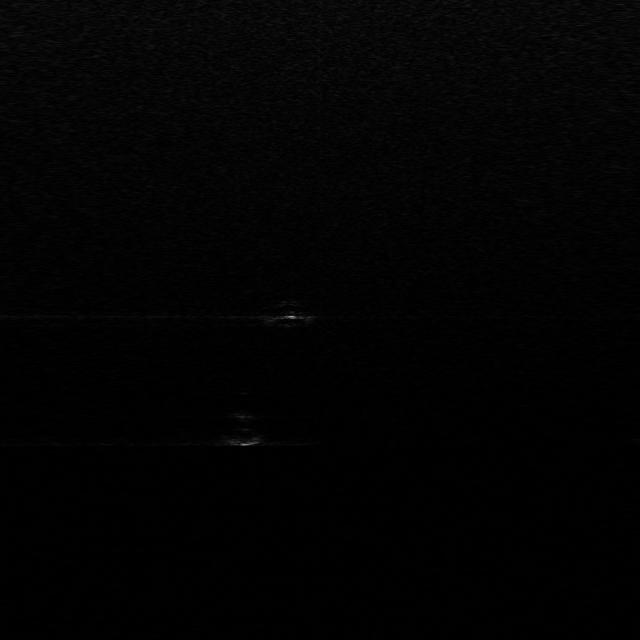ball: (212, 409, 269, 446)
tyre: (258, 301, 317, 329)
